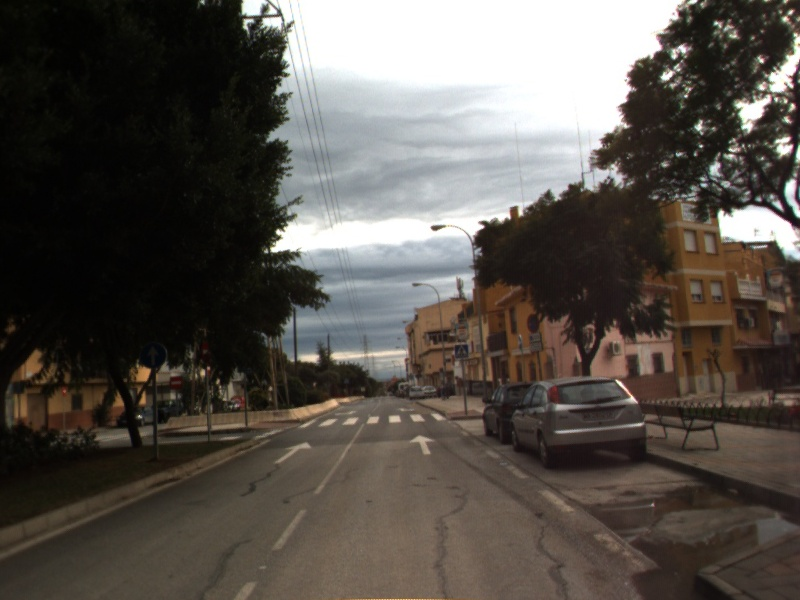STRAIGHT: (272, 439, 314, 465), (408, 433, 438, 456)
